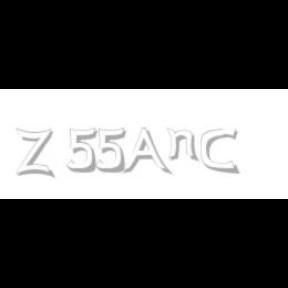5: (66, 128, 97, 174), (96, 128, 127, 174)
A: (121, 128, 169, 176)
C: (200, 128, 237, 174)
Z: (16, 128, 52, 178)
n: (166, 128, 200, 162)
